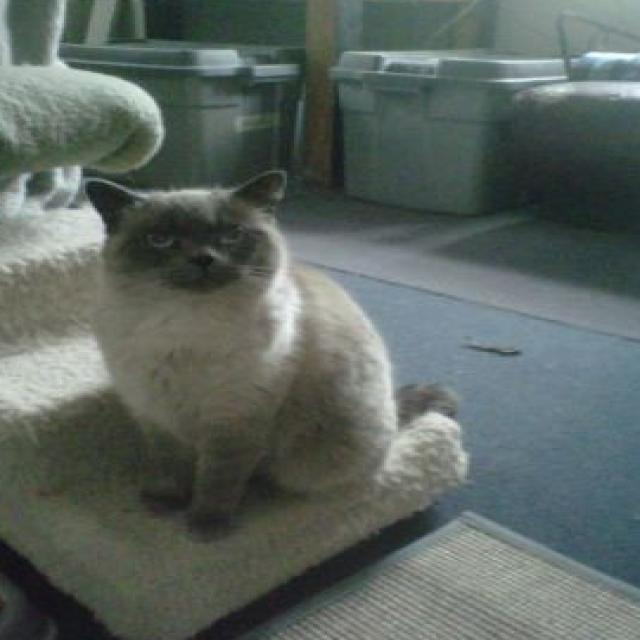Birman: (82, 166, 467, 551)
